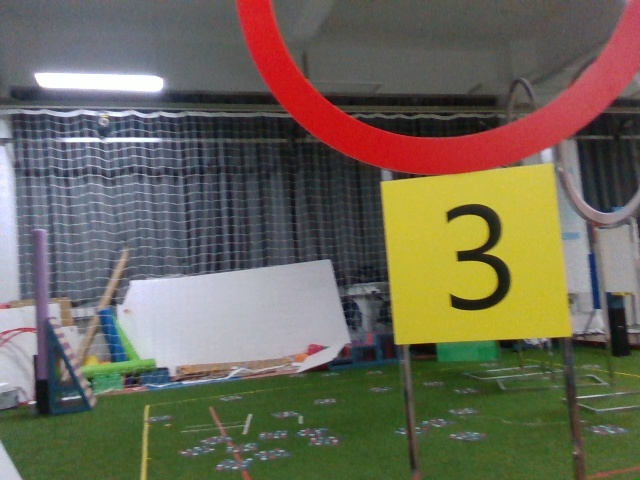target: (395, 182, 562, 336)
